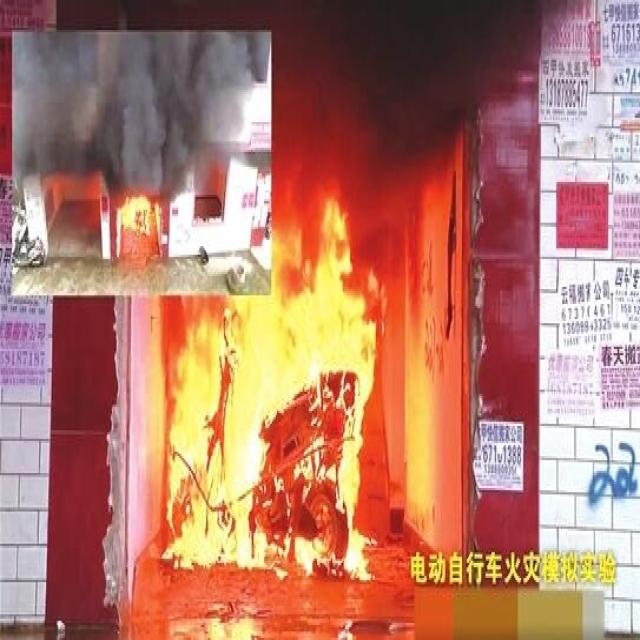fire: (132, 247, 380, 569), (94, 159, 170, 245)
smoke: (285, 10, 558, 216), (47, 18, 266, 224)
